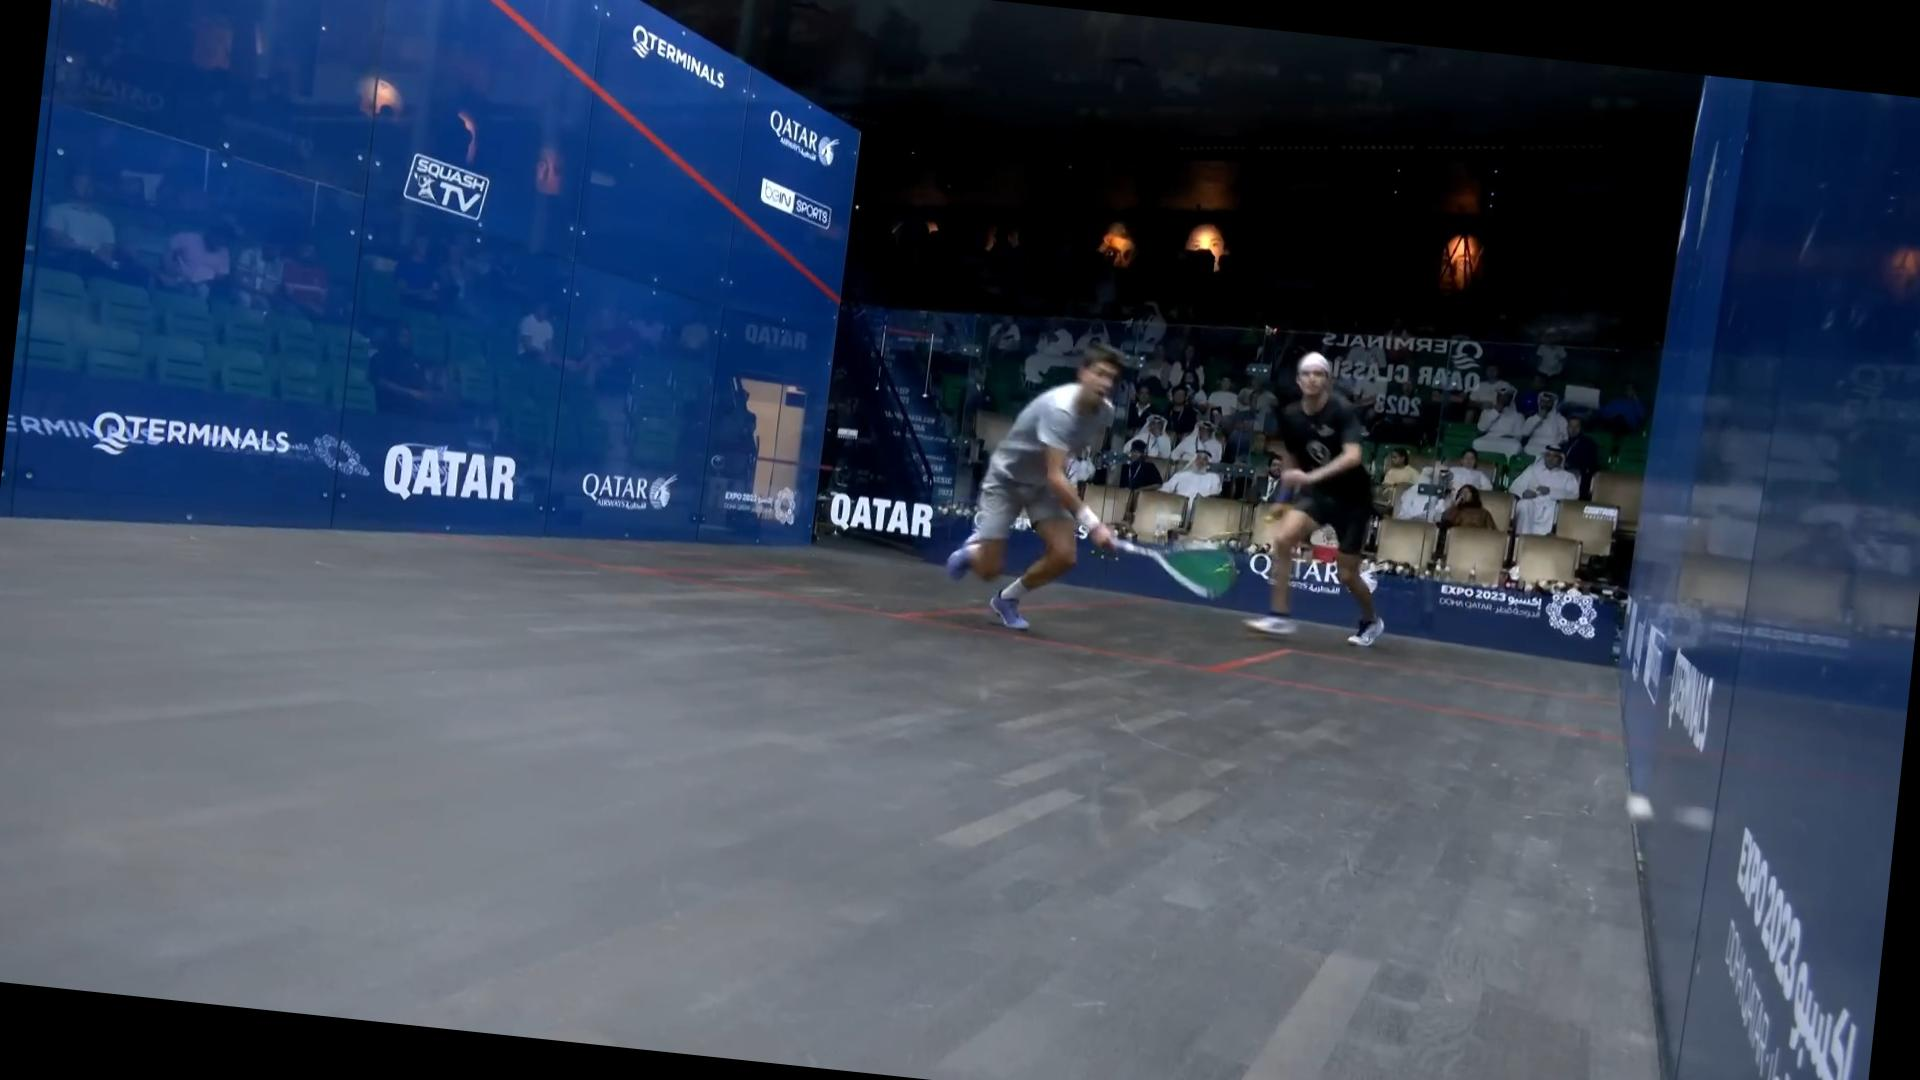Racket: (1102, 521, 1246, 609)
